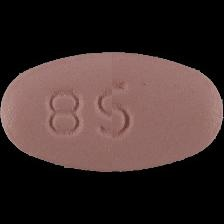50090-1437: (0, 0, 224, 224)
